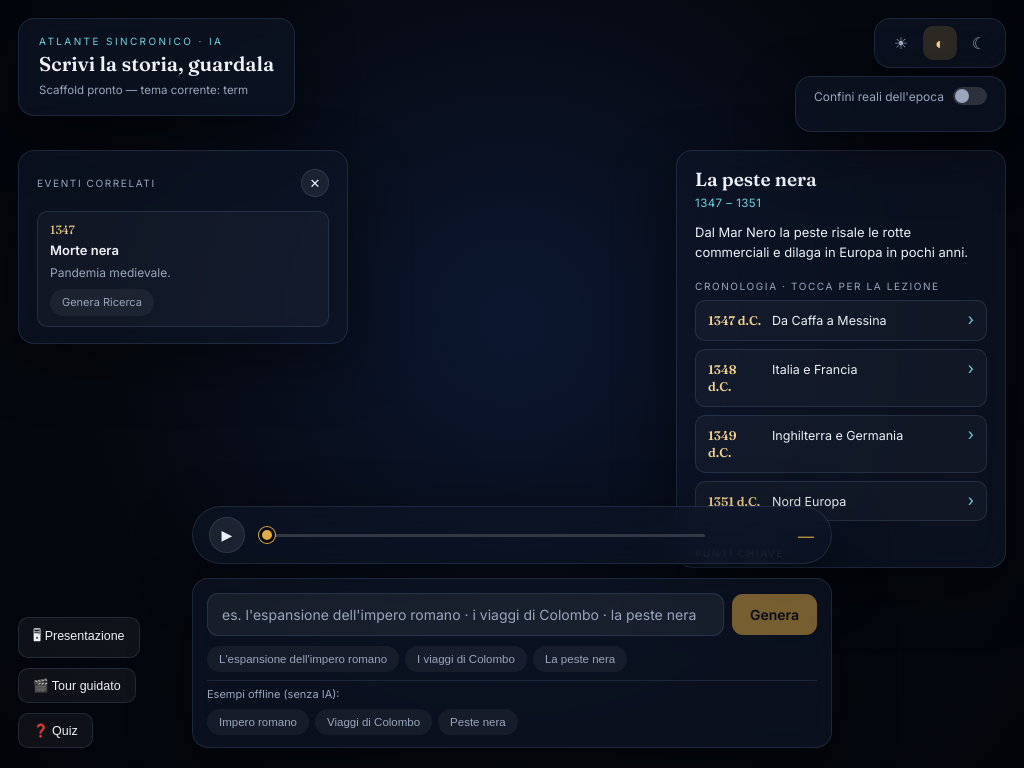
App — modale lezione › un click reale su una voce della cronologia (esempio offline Peste) apre la modale, fuori dal wrapper del pannello
The image size is (1024, 768).
Click the text "Da Caffa a Messina". click: x=829, y=321
box: [772,313,887,328]
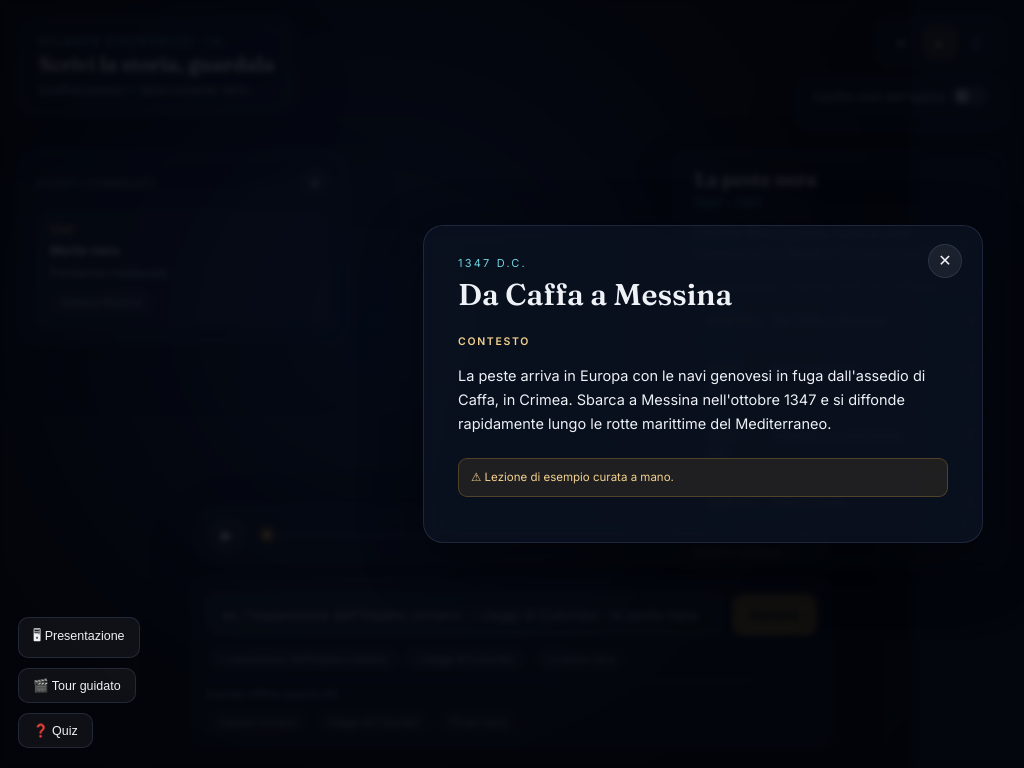
Expected: the text "⚠︎ Lezione di esempio curata a mano." is shown, [458,458,948,497]
Expected: the text "La peste arriva in Europa con le navi genovesi" is shown, [458,367,925,432]
